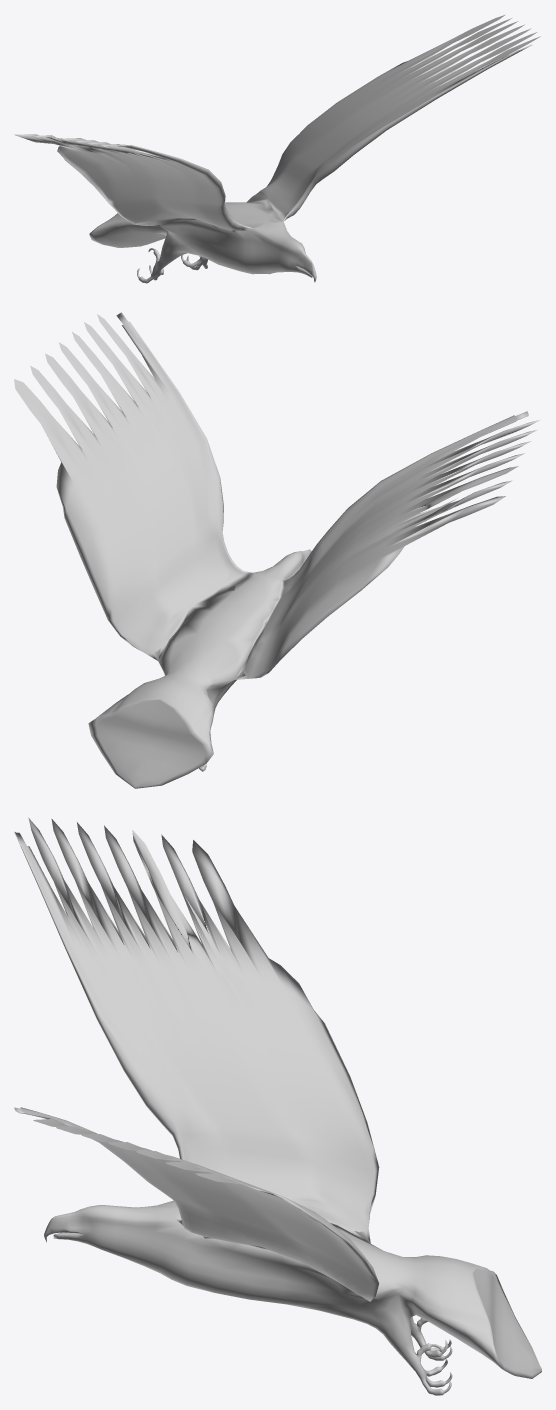
File: Eagle.glb
The picture shows the model from 3 angles, top to bottom: view 1: azimuth 30°, elevation 25°; view 2: azimuth 150°, elevation 25°; view 3: azimuth 270°, elevation 25°; orthographic projection. The views are drawn at different scales.
Parts seen in each view (by area): view 1: node_id22; view 2: node_id22; view 3: node_id22.
Boxes of the visible parts, x1,y1,x2,y2 form: node_id22: [14, 14, 540, 283]; node_id22: [14, 312, 540, 788]; node_id22: [14, 817, 541, 1395].
Bounding box in the file's own units: 0.3897 × 0.2207 × 0.2603.
1 material, 1 textured.
